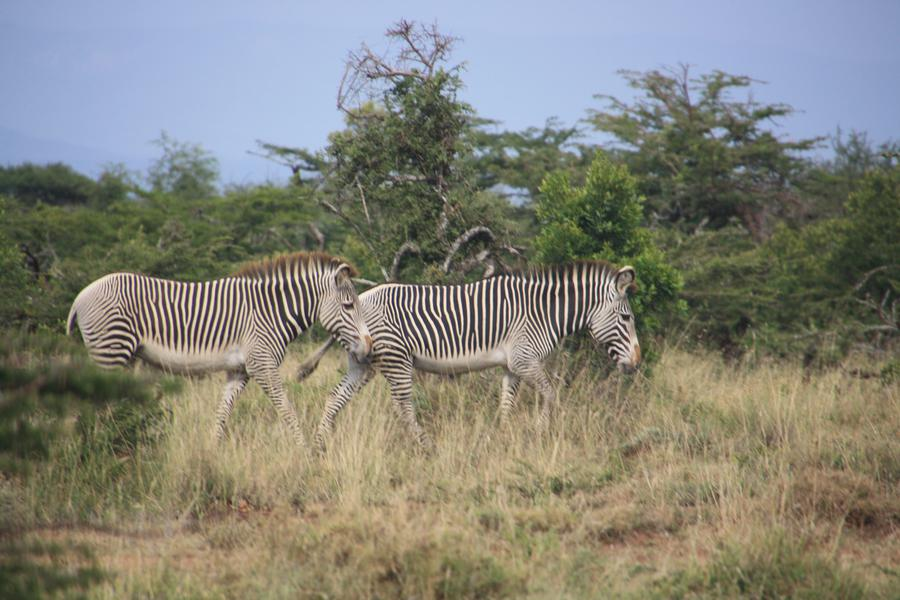zebra_grevys: (68, 267, 277, 371), (360, 267, 540, 362)
